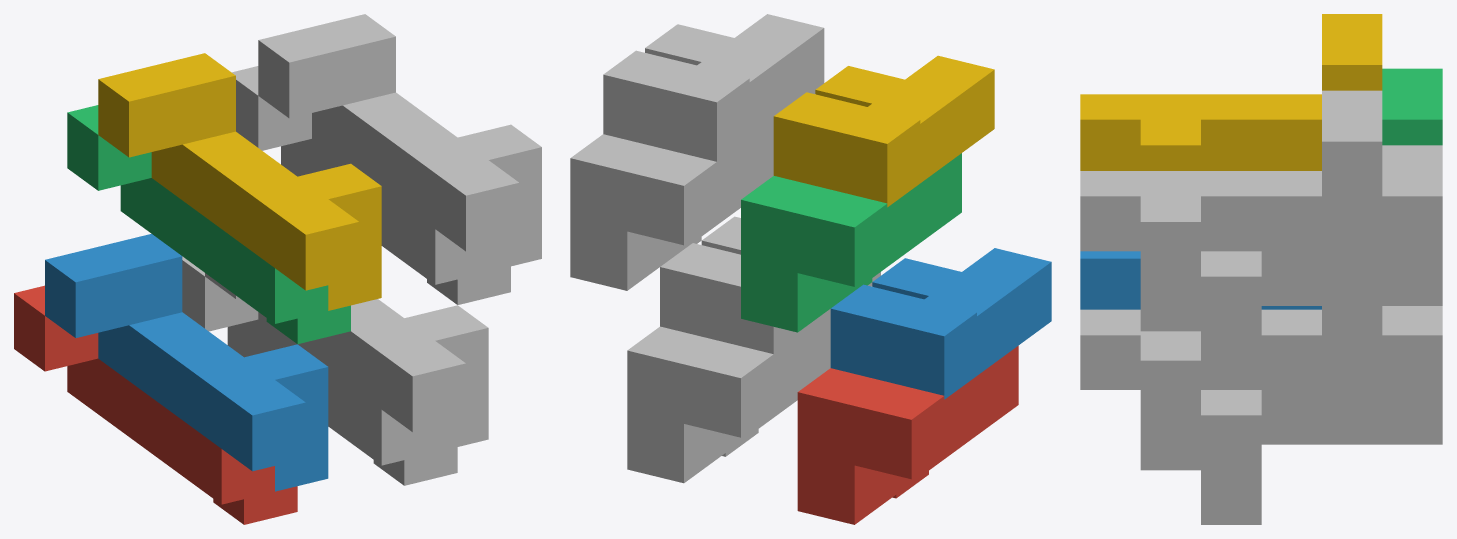
Rendered from tiling.obj.
3 renders of one model, left to right at view 1: azimuth 30°, elevation 25°; view 2: azimuth 150°, elevation 25°; view 3: azimuth 270°, elevation 25°, orthographic. The views are drawn at different scales.
Visible parts, largest first — view 1: copy_1_domain_2, copy_1_domain_4, copy_1_domain_8, copy_1_domain_6, copy_1_domain_3, copy_1_domain_1, copy_1_domain_7, copy_1_domain_5; view 2: copy_1_domain_4, copy_1_domain_2, copy_1_domain_8, copy_1_domain_1, copy_1_domain_3, copy_1_domain_5, copy_1_domain_7, copy_1_domain_6; view 3: copy_1_domain_8, copy_1_domain_7, copy_1_domain_6, copy_1_domain_4, copy_1_domain_5, copy_1_domain_3, copy_1_domain_2.
Boxes of the visible parts, <box> form: copy_1_domain_2: <box>45,234,328,491</box>; copy_1_domain_4: <box>98,53,381,310</box>; copy_1_domain_8: <box>258,14,541,271</box>; copy_1_domain_6: <box>205,273,488,452</box>; copy_1_domain_3: <box>67,105,350,344</box>; copy_1_domain_1: <box>14,285,297,524</box>; copy_1_domain_7: <box>232,66,510,304</box>; copy_1_domain_5: <box>182,256,457,485</box>; copy_1_domain_4: <box>773,55,994,207</box>; copy_1_domain_2: <box>830,248,1051,399</box>; copy_1_domain_8: <box>603,14,824,165</box>; copy_1_domain_1: <box>797,345,1018,524</box>; copy_1_domain_3: <box>741,153,961,332</box>; copy_1_domain_5: <box>627,317,830,483</box>; copy_1_domain_7: <box>570,124,773,290</box>; copy_1_domain_6: <box>660,216,880,357</box>; copy_1_domain_8: <box>1080,90,1382,331</box>; copy_1_domain_7: <box>1201,145,1442,386</box>; copy_1_domain_6: <box>1080,306,1382,470</box>; copy_1_domain_4: <box>1080,14,1382,170</box>; copy_1_domain_5: <box>1201,306,1442,524</box>; copy_1_domain_3: <box>1382,68,1442,145</box>; copy_1_domain_2: <box>1080,251,1321,309</box>.
Size of the model in its own units: 7 by 7 by 6.
